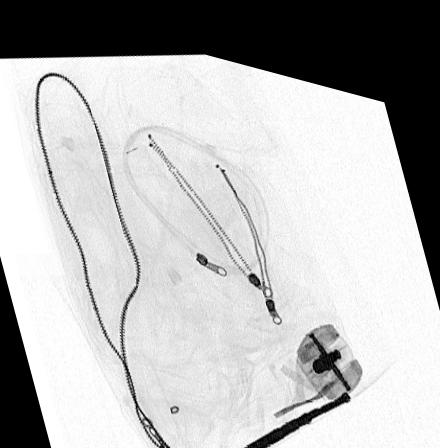Gun: (217, 373, 352, 448)
